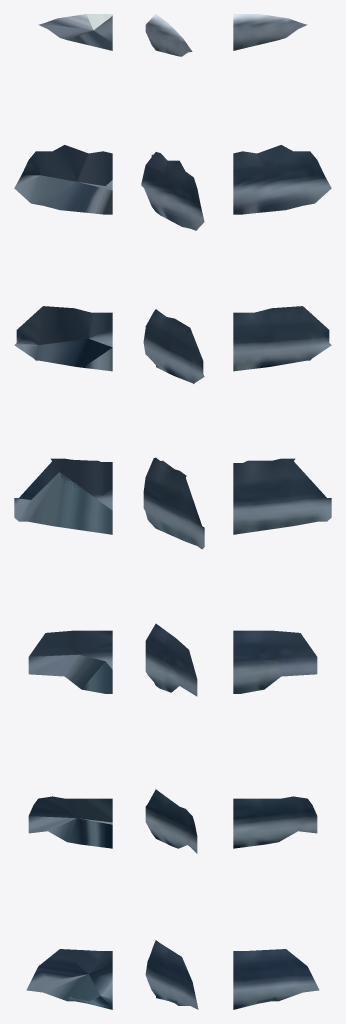
The model's file is z20-167729-405195-h1-yup-uvflip-v3-world.glb.
The picture shows the model from 3 angles, left to right: view 1: azimuth 90°, elevation 25°; view 2: azimuth 210°, elevation 25°; view 3: azimuth 270°, elevation 25°; orthographic projection.
Bounding box in the file's own units: 0.28 × 18.28 × 1.64.
Materials: 1 (1 with a texture image).
